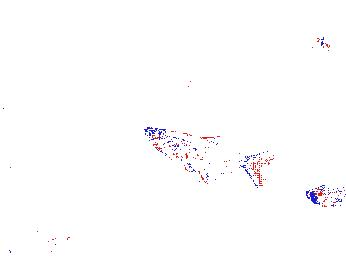red belly glassfish: (175, 70, 201, 94), (312, 35, 333, 53)
redtail glassfish: (143, 125, 271, 188), (4, 231, 60, 259), (303, 182, 346, 207)
